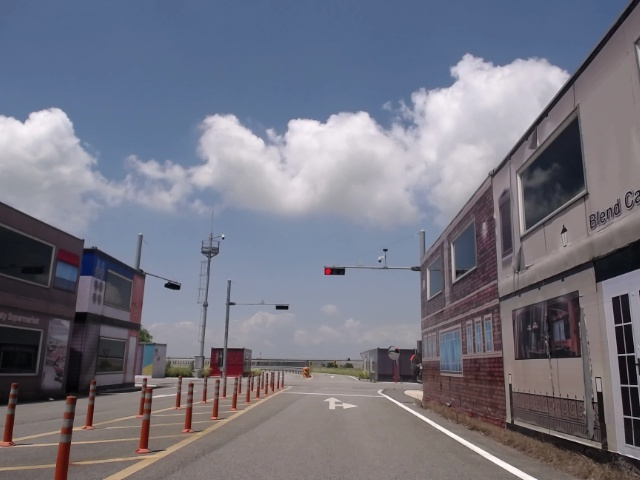red_3: (324, 268, 346, 276)
